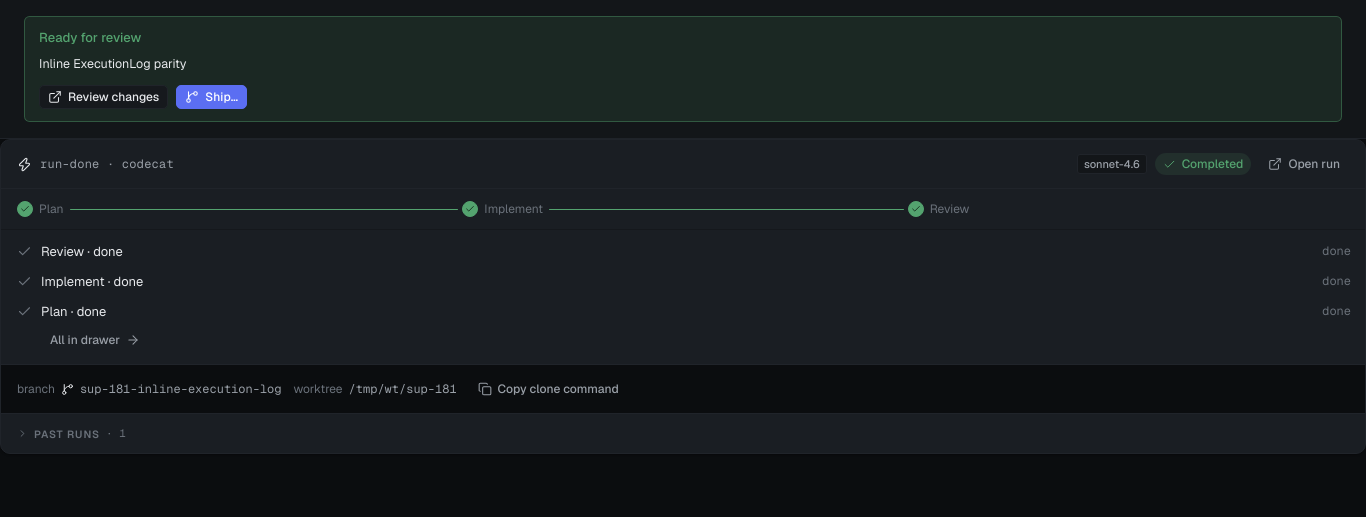
ExecutionLog — state branches › done: state chip "shipped"; Past runs section collapsed by default and opens on click
Expected: the text "Completed" is shown, [1155, 153, 1251, 175]
Expected: the text "sup-181-inline-execution-log" is shown, [80, 381, 282, 398]
Click the button "Past runs · 1" at x=71, y=434, box [17, 426, 126, 441]
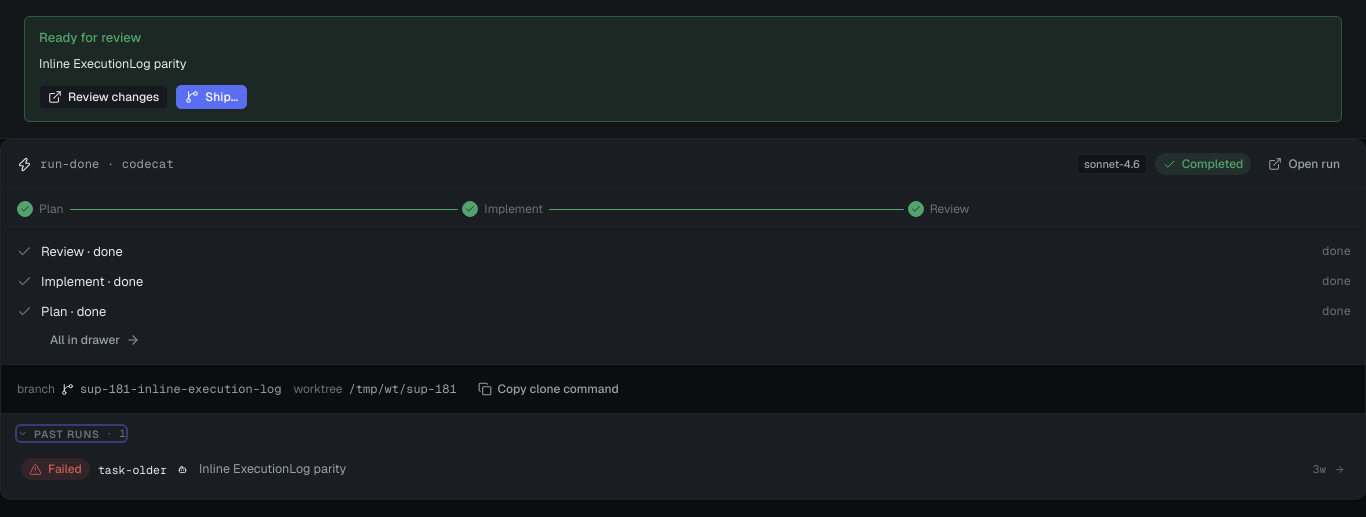
Expected: the button "Past runs · 1" is expanded, [17, 426, 126, 441]
Expected: the button with aria-label "open run drawer for task task-older" is shown, [17, 451, 1349, 487]
